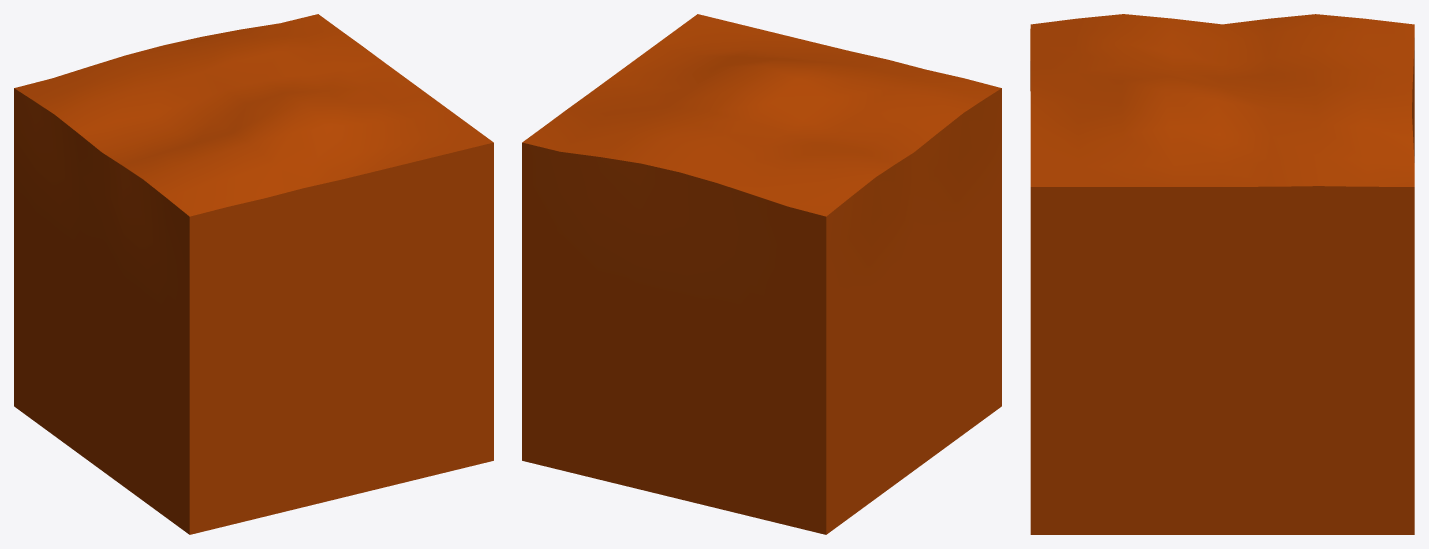
File: justDirt.fbx
3 renders of one model, left to right at view 1: azimuth 30°, elevation 25°; view 2: azimuth 150°, elevation 25°; view 3: azimuth 270°, elevation 25°, orthographic. The views are drawn at different scales.
Visible parts, largest first — view 1: Cube; view 2: Cube; view 3: Cube.
Boxes of the visible parts, left/top/right/bottom form: Cube: left=14, top=14, right=493, bottom=534; Cube: left=522, top=14, right=1001, bottom=534; Cube: left=1030, top=14, right=1414, bottom=534.
Size of the model in its own units: 101 by 108 by 100.
